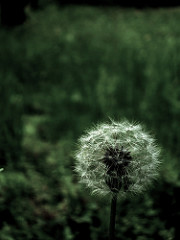dandelion: (72, 114, 167, 207)
